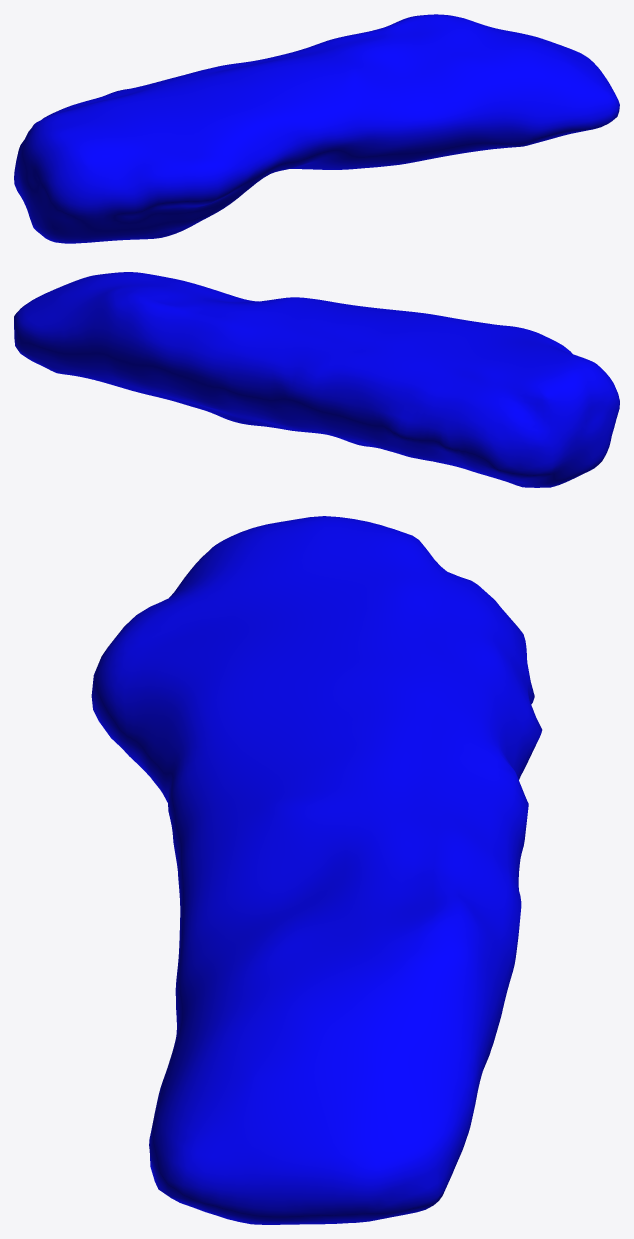
File: Cloud1.dae
3 renders of one model, top to bottom at view 1: azimuth 30°, elevation 25°; view 2: azimuth 150°, elevation 25°; view 3: azimuth 270°, elevation 25°, orthographic. The views are drawn at different scales.
Visible parts, largest first — view 1: Cube; view 2: Cube; view 3: Cube.
Boxes of the visible parts, <box> form: Cube: <box>14,14,619,243</box>; Cube: <box>14,272,619,487</box>; Cube: <box>91,516,542,1224</box>.
Size of the model in its own units: 5.39 by 1.84 by 1.01.
